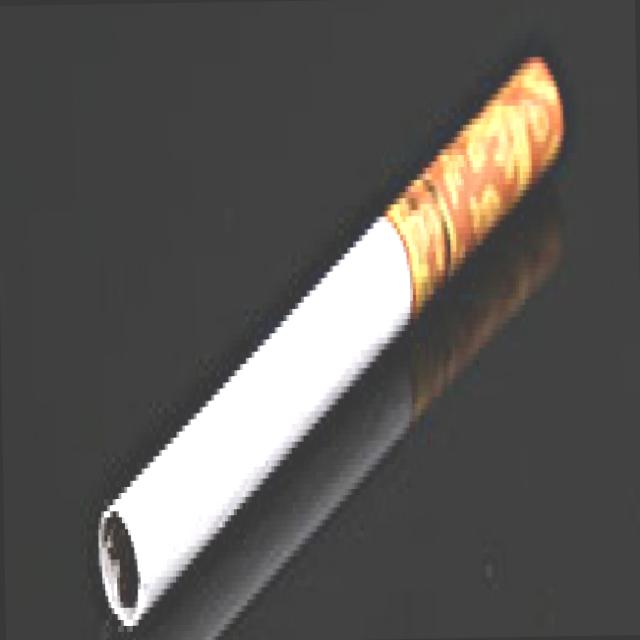smoke: (91, 61, 552, 631)
